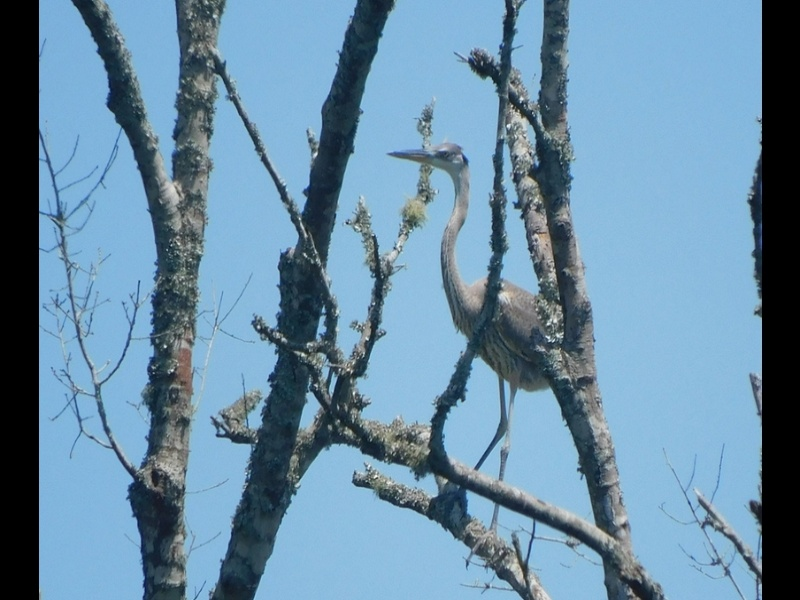heron: (392, 136, 571, 509)
